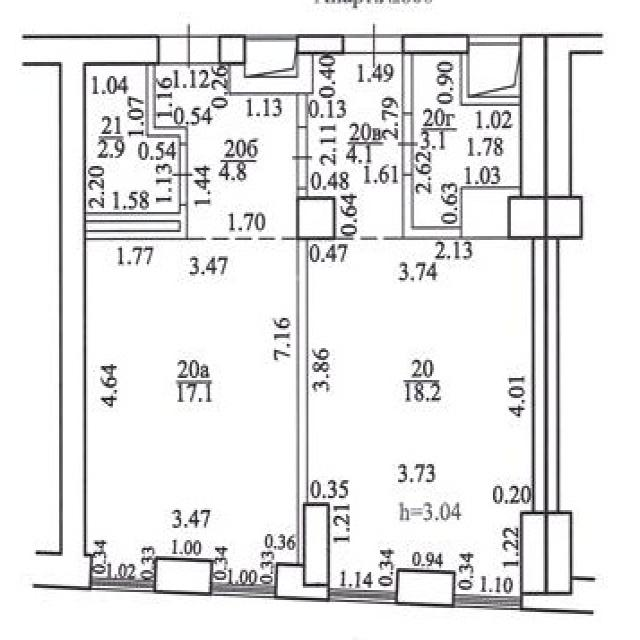Corridors: (157, 67, 296, 237), (414, 56, 520, 224), (309, 55, 402, 236), (86, 67, 179, 211)
Doors: (158, 21, 219, 72), (342, 23, 402, 69), (170, 143, 198, 206), (396, 114, 422, 176), (290, 128, 315, 186)
LBwalls: (19, 34, 159, 591), (520, 34, 606, 195), (519, 510, 573, 593), (507, 195, 583, 241), (461, 185, 523, 239), (519, 575, 596, 615), (396, 567, 455, 607), (302, 502, 330, 586), (156, 555, 213, 595), (274, 564, 328, 603), (295, 195, 337, 240), (402, 35, 469, 55), (297, 35, 344, 53), (218, 35, 246, 65)
Offices: (310, 240, 531, 594), (86, 239, 296, 583)
Walls: (229, 34, 313, 96), (84, 203, 187, 241), (403, 173, 462, 239), (460, 46, 522, 106), (297, 240, 308, 565), (147, 65, 189, 145), (533, 239, 545, 511), (546, 240, 558, 512), (402, 54, 413, 115), (469, 34, 521, 46), (295, 94, 307, 128), (296, 186, 308, 196)
Windows: (329, 586, 394, 604), (90, 577, 156, 594), (453, 594, 521, 608), (211, 584, 275, 596)
